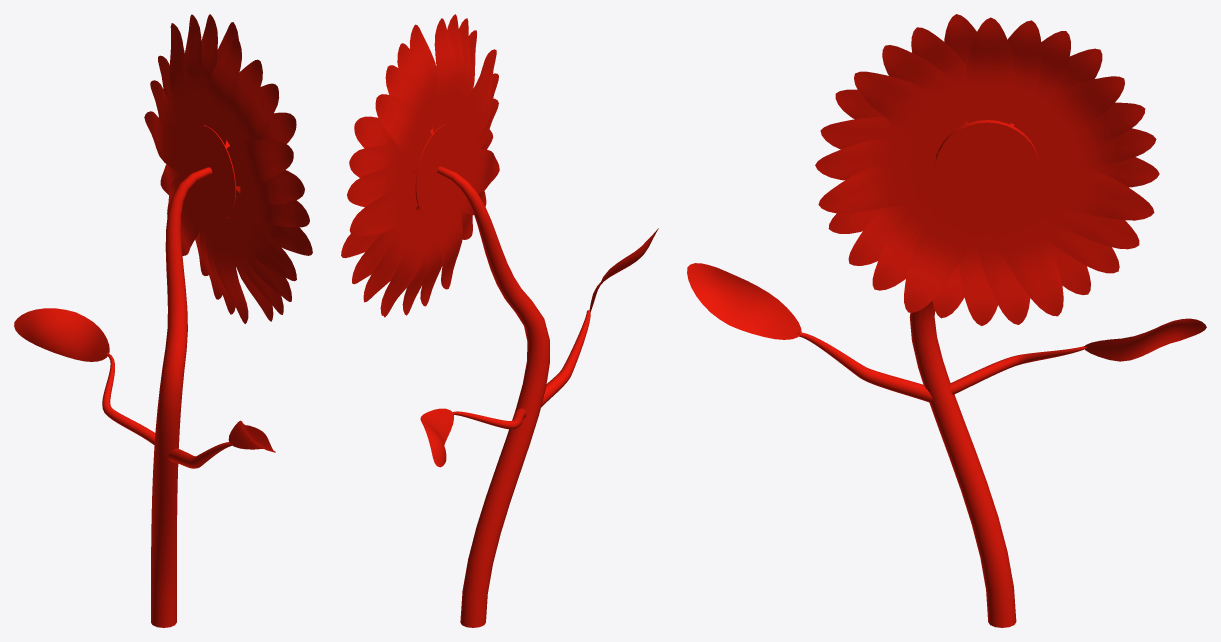
The model's file is plant.fbx.
3 views of the same model, side by side, from view 1: azimuth 30°, elevation 25°; view 2: azimuth 150°, elevation 25°; view 3: azimuth 270°, elevation 25° (orthographic). The views are drawn at different scales.
Visible parts, largest first — view 1: BezierCurve, Plane.001, Cylinder, Plane.024, Plane.026, Plane.022, Plane.019, Plane.028, Plane.025, Plane.030, Plane.023, Plane.027 (+15 smaller); view 2: BezierCurve, Cylinder, Plane.028, Plane.030, Plane.026, Plane.017, Plane.024, Plane.019, Plane.029, Plane.016, Plane.022, Plane.027 (+15 smaller); view 3: BezierCurve, Cylinder, Plane.021, Plane.005, Plane.003, Plane.011, Plane.007, Plane.014, Plane.009, Plane.012, Plane.006, Plane.008 (+22 smaller).
Boxes of the visible parts, x1,y1,x2,y2 form: BezierCurve: (151, 167, 212, 627); Plane.001: (14, 308, 109, 361); Cylinder: (187, 125, 240, 220); Plane.024: (226, 139, 293, 186); Plane.026: (206, 38, 241, 145); Plane.022: (229, 190, 296, 281); Plane.019: (209, 215, 248, 323); Plane.028: (169, 23, 204, 137); Plane.025: (226, 59, 262, 145); Plane.030: (144, 111, 189, 175); Plane.023: (240, 170, 304, 204); Plane.027: (184, 14, 207, 124); BezierCurve: (437, 166, 549, 627); Cylinder: (412, 124, 463, 216); Plane.028: (375, 94, 431, 168); Plane.030: (349, 172, 417, 235); Plane.026: (433, 18, 458, 132); Plane.017: (380, 208, 434, 315); Plane.024: (453, 49, 496, 147); Plane.019: (436, 193, 462, 289); Plane.029: (347, 160, 413, 206); Plane.016: (363, 208, 417, 302); Plane.022: (456, 149, 499, 192); Plane.027: (385, 65, 432, 130); BezierCurve: (909, 301, 1016, 627); Cylinder: (935, 120, 1039, 217); Plane.021: (687, 263, 801, 339); Plane.005: (904, 198, 982, 312); Plane.003: (988, 201, 1063, 316); Plane.011: (1030, 160, 1154, 220); Plane.007: (818, 156, 942, 213); Plane.014: (1013, 76, 1124, 156); Plane.009: (854, 71, 964, 153); Plane.012: (965, 17, 1015, 124); Plane.006: (872, 195, 944, 290); Plane.008: (815, 138, 936, 180).
Size of the model in its own units: 52.27 by 243 by 179.
